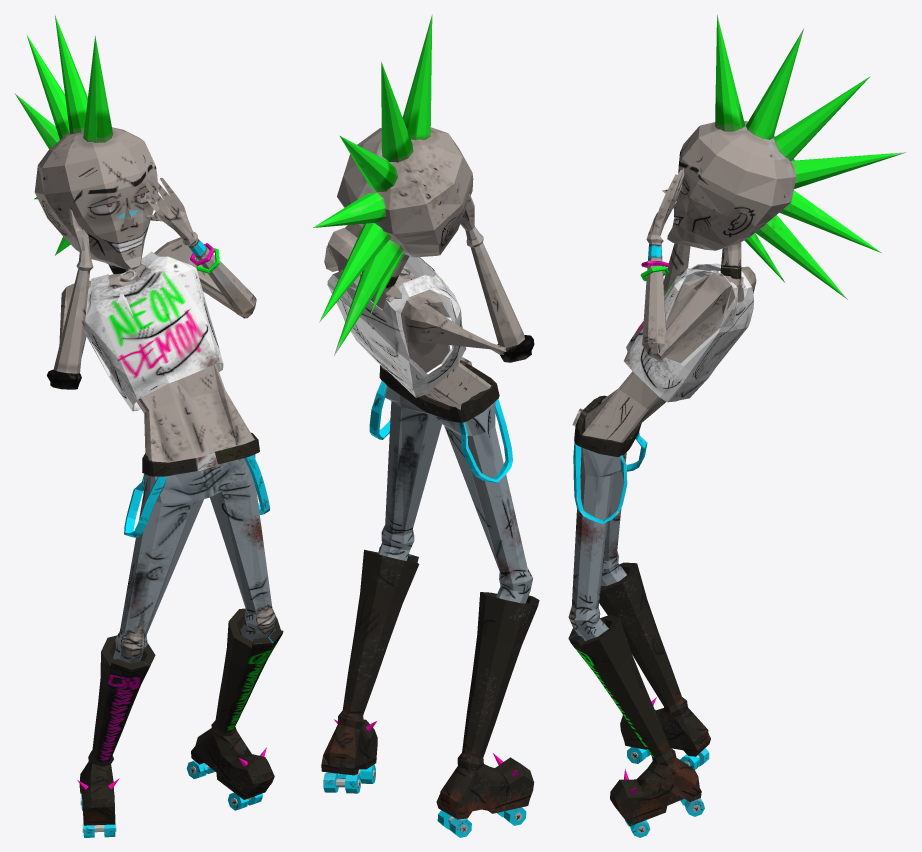
The model's file is punkAnimation_000010.obj.
The picture shows the model from 3 angles, left to right: view 1: azimuth 30°, elevation 25°; view 2: azimuth 150°, elevation 25°; view 3: azimuth 270°, elevation 25°; orthographic projection. The views are drawn at different scales.
Parts seen in each view (by area): view 1: Cube.004_Cube.003; view 2: Cube.004_Cube.003; view 3: Cube.004_Cube.003.
Part boxes in pixels (bbox=[...]): Cube.004_Cube.003: bbox=[15, 15, 283, 837]; Cube.004_Cube.003: bbox=[313, 14, 539, 837]; Cube.004_Cube.003: bbox=[568, 14, 906, 837].
Size of the model in its own units: 1.96 by 7.17 by 2.88.
